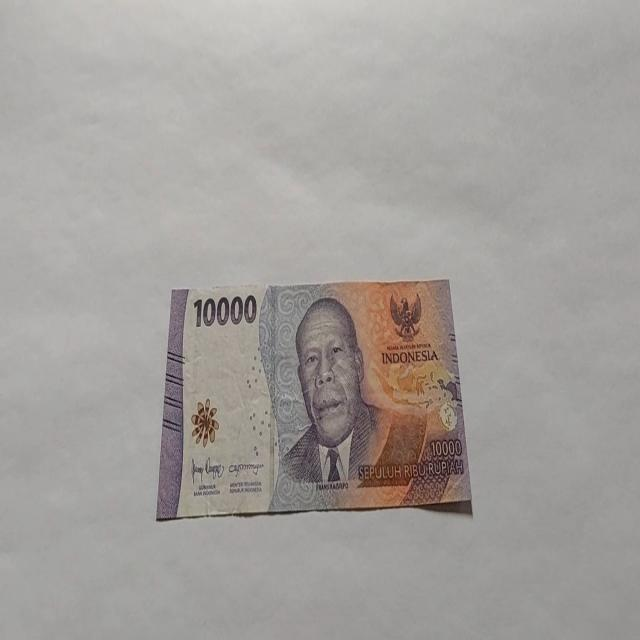sepuluh ribu rupiah: (156, 277, 472, 521)
